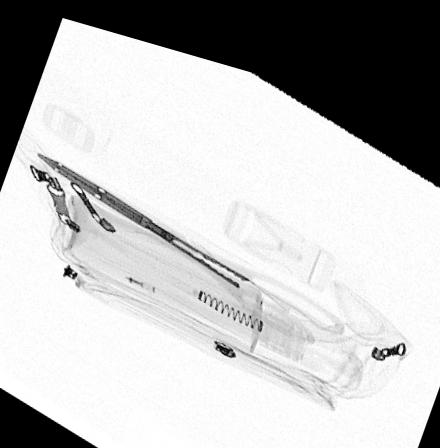Scissors: (32, 150, 347, 326)
